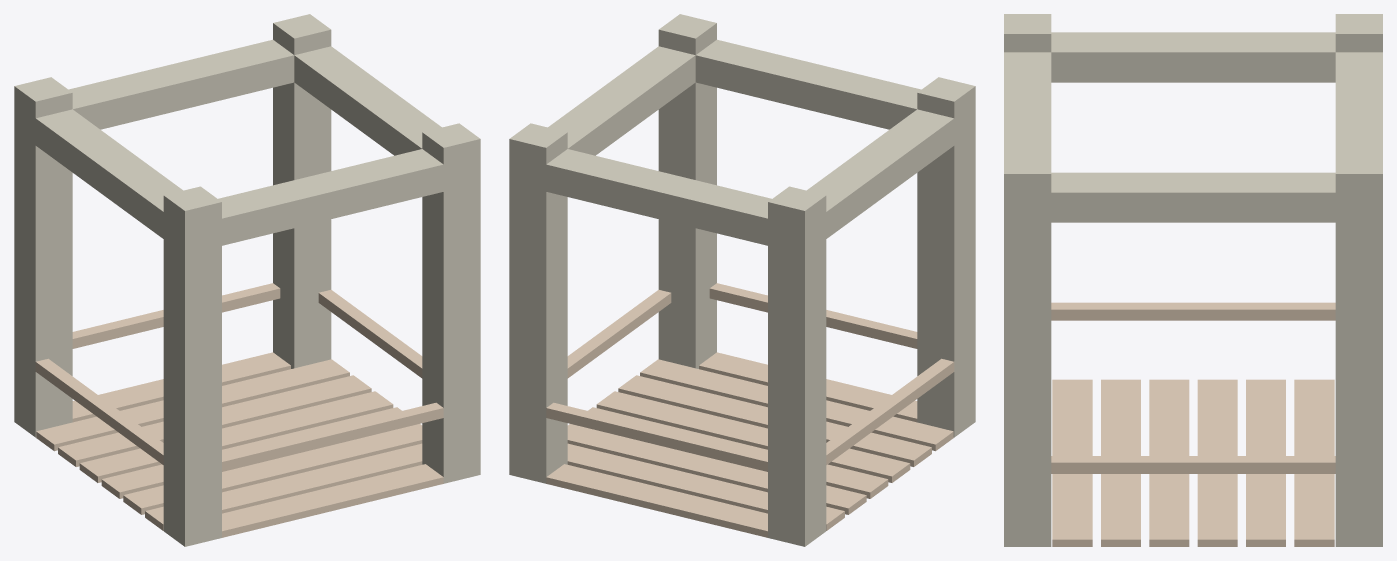
File: towerSquareMidOpen.glb
3 renders of one model, left to right at view 1: azimuth 30°, elevation 25°; view 2: azimuth 150°, elevation 25°; view 3: azimuth 270°, elevation 25°, orthographic. The views are drawn at different scales.
Parts seen in each view (by area): view 1: towerSquareMidOpen, plank 15, plank 11, plank 14, plank 13, plank 12, plank 8, rail 5, plank 9, rail 6, rail 7, rail 8 (+1 smaller); view 2: towerSquareMidOpen, plank 9, plank 10, plank 12, plank 8, plank 14, plank 13, rail 7, plank 15, rail 6, rail 5, rail 8 (+1 smaller); view 3: towerSquareMidOpen, plank 8, plank 13, plank 10, plank 11, plank 12, plank 14, rail 6, rail 8.
Boxes of the visible parts, box(x1,y1,x2,y2) form: towerSquareMidOpen: box(14, 14, 480, 546); plank 15: box(222, 464, 443, 537); plank 11: box(79, 391, 393, 482); plank 14: box(123, 424, 422, 514); plank 13: box(36, 359, 349, 451); plank 12: box(58, 375, 371, 466); plank 8: box(145, 443, 422, 530); rail 5: box(222, 402, 443, 471); plank 9: box(72, 352, 290, 422); rail 6: box(35, 358, 163, 464); rail 7: box(72, 283, 280, 348); rail 8: box(318, 289, 422, 378); towerSquareMidOpen: box(509, 14, 975, 546); plank 9: box(546, 464, 767, 537); plank 10: box(596, 391, 910, 482); plank 12: box(567, 424, 866, 514); plank 8: box(640, 359, 953, 451); plank 14: box(618, 375, 931, 466); plank 13: box(567, 443, 844, 530); rail 7: box(546, 402, 767, 471); plank 15: box(699, 352, 917, 422); rail 6: box(826, 358, 954, 464); rail 5: box(709, 283, 917, 348); rail 8: box(567, 289, 671, 378); towerSquareMidOpen: box(1004, 14, 1382, 546); plank 8: box(1052, 379, 1092, 546); plank 13: box(1294, 379, 1334, 546); plank 10: box(1149, 379, 1189, 546); plank 11: box(1197, 379, 1237, 546); plank 12: box(1246, 379, 1285, 546); plank 14: box(1101, 379, 1140, 546); rail 6: box(1051, 302, 1335, 320); rail 8: box(1051, 456, 1335, 473).
Size of the model in its own units: 9.3 by 10.1 by 9.3.
